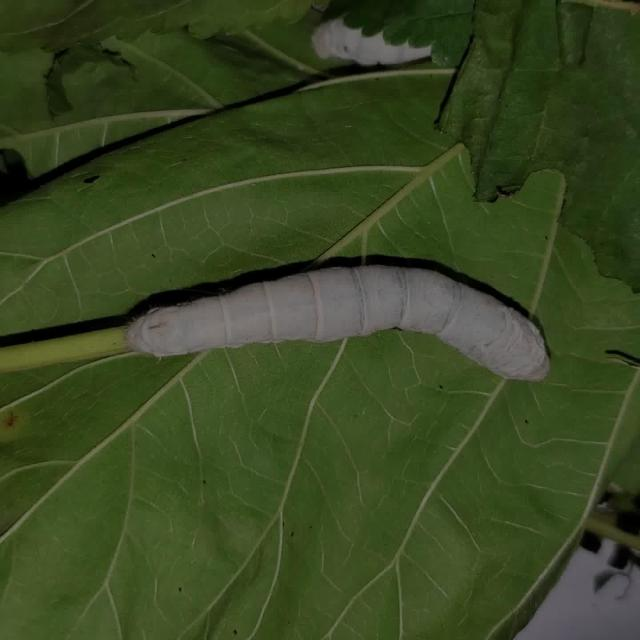Healthy: (119, 221, 559, 426)
